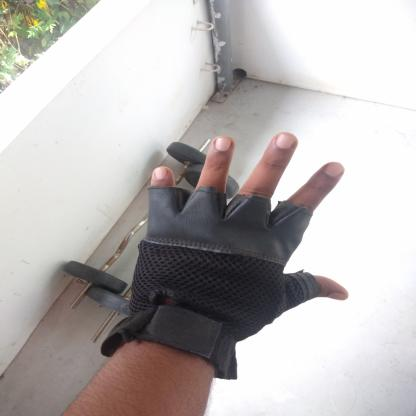gloved_hand: (92, 180, 333, 383)
